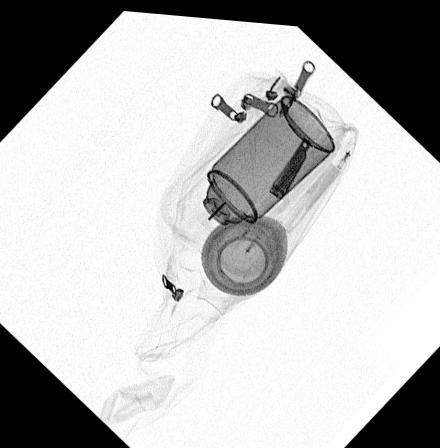Sprayer: (174, 87, 336, 249)
